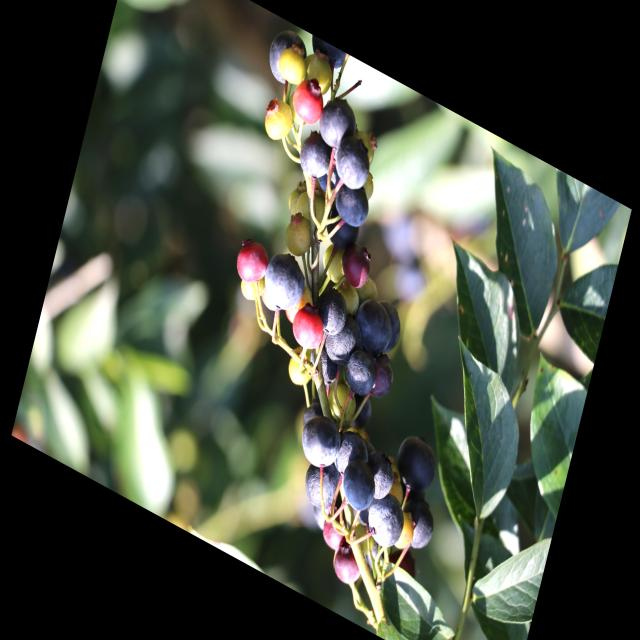blueberry: (260, 242, 311, 321), (294, 411, 345, 480), (262, 23, 310, 96), (392, 430, 441, 501), (349, 293, 396, 359), (322, 308, 366, 377), (362, 491, 408, 556), (332, 131, 376, 197), (396, 492, 438, 558), (316, 94, 358, 157), (336, 459, 379, 520), (300, 461, 342, 522), (371, 296, 409, 362), (340, 343, 381, 402), (332, 426, 372, 486), (313, 286, 353, 346), (294, 126, 334, 186), (333, 175, 374, 232), (362, 449, 398, 506), (321, 202, 360, 254), (367, 352, 397, 406)
blueberry-halfripe: (231, 228, 273, 291), (328, 534, 369, 594), (288, 297, 327, 357), (337, 236, 376, 294), (288, 75, 326, 130), (318, 509, 347, 553)
blueberry-unripe: (258, 92, 300, 154), (297, 46, 339, 102), (280, 208, 316, 264), (322, 382, 358, 432), (295, 189, 329, 235), (284, 344, 316, 391), (277, 46, 310, 89), (319, 241, 347, 285), (394, 515, 416, 554)
